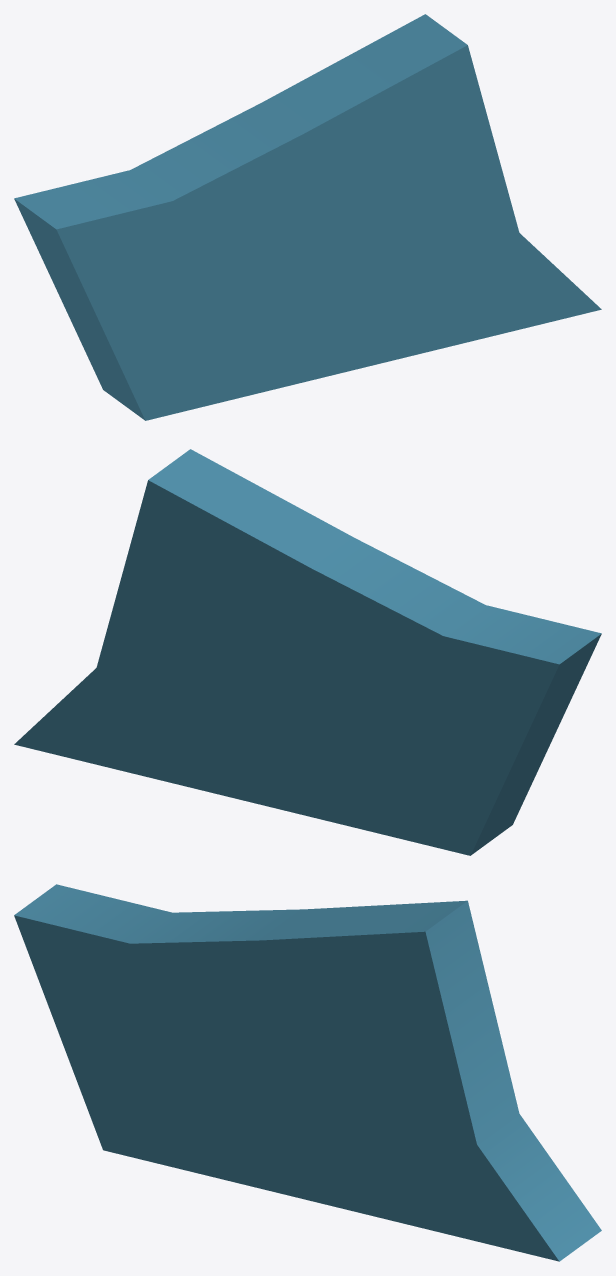
The model's file is NexusA_Trigger_34.fbx.
3 renders of one model, top to bottom at view 1: azimuth 30°, elevation 25°; view 2: azimuth 150°, elevation 25°; view 3: azimuth 330°, elevation 25°, orthographic.
Parts seen in each view (by area): view 1: pCube15; view 2: pCube15; view 3: pCube15.
Boxes of the visible parts, box(x1,y1,x2,y2) form: pCube15: box(14, 14, 601, 420); pCube15: box(14, 449, 601, 855); pCube15: box(14, 884, 601, 1261).
Size of the model in its own units: 70.86 by 36.89 by 9.54.
